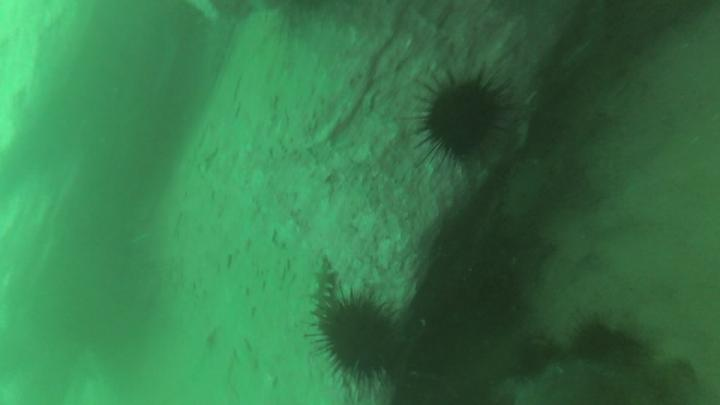echinus: (427, 81, 502, 160), (319, 303, 398, 377), (513, 336, 549, 377), (573, 327, 612, 359)
holothurian: (309, 259, 335, 312)
